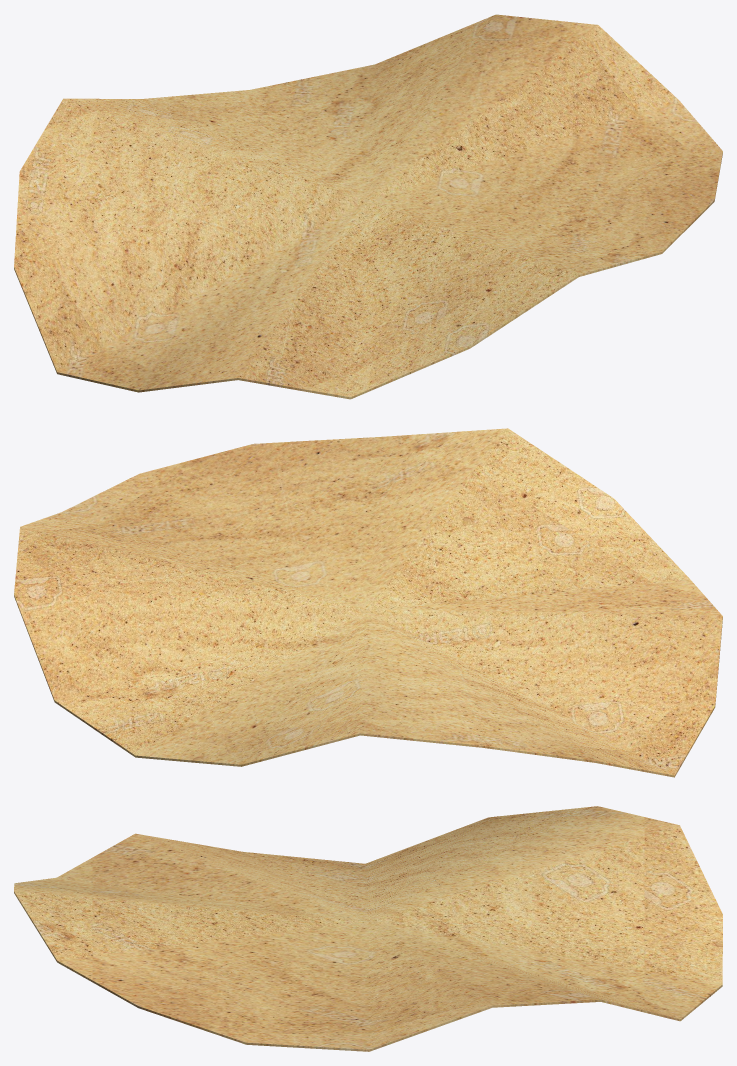
Rendered from sandplane.FBX.
3 views of the same model, one above another, from view 1: azimuth 30°, elevation 25°; view 2: azimuth 150°, elevation 25°; view 3: azimuth 270°, elevation 25° (orthographic). The views are drawn at different scales.
Parts seen in each view (by area): view 1: Cylinder001; view 2: Cylinder001; view 3: Cylinder001.
Boxes of the visible parts, x1,y1,x2,y2 form: Cylinder001: [14, 14, 722, 399]; Cylinder001: [14, 428, 722, 777]; Cylinder001: [14, 806, 722, 1051].
Bounding box in the file's own units: 41.78 × 9.93 × 41.16.
